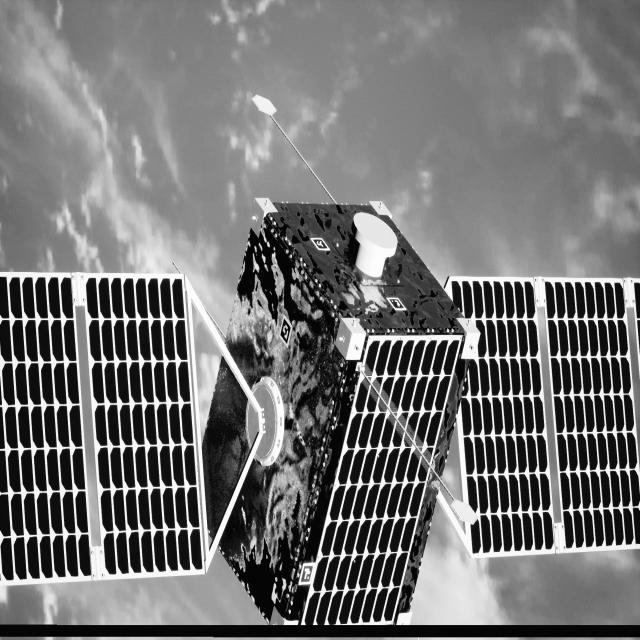satellite: (0, 199, 640, 627)
